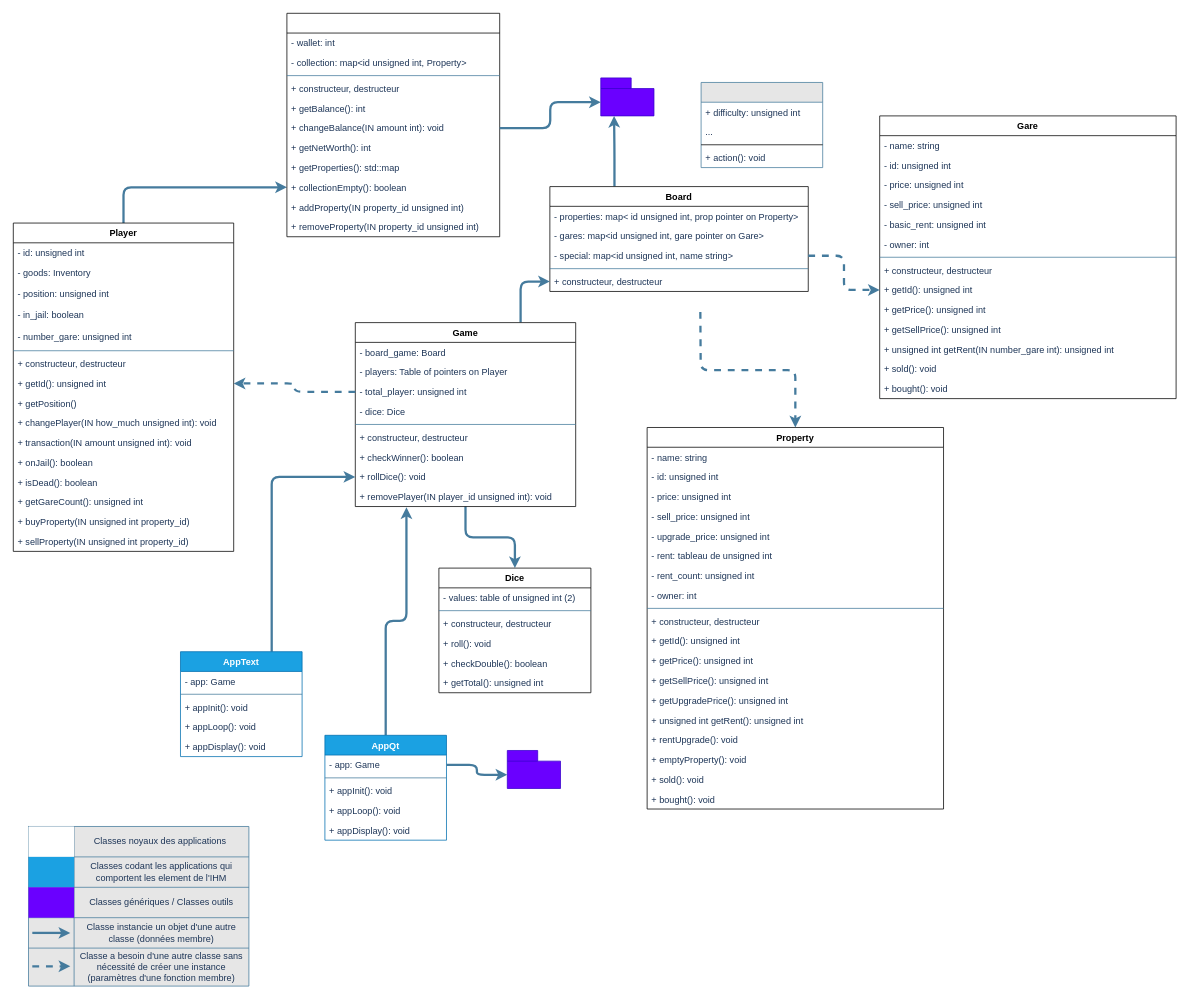
This 1189x999 diagram has some shape labels left out. Here are the shapes that lost their labels. From the top down, the box of each, then its label:
(600, 77, 654, 116): std::map
(286, 13, 500, 237): Inventory
(700, 82, 823, 168): BotPlayer
(507, 750, 560, 788): Qt5
